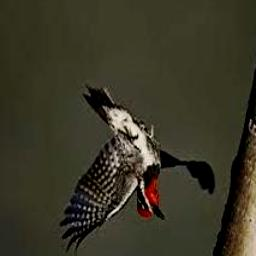Woodpecker: (59, 85, 214, 255)
